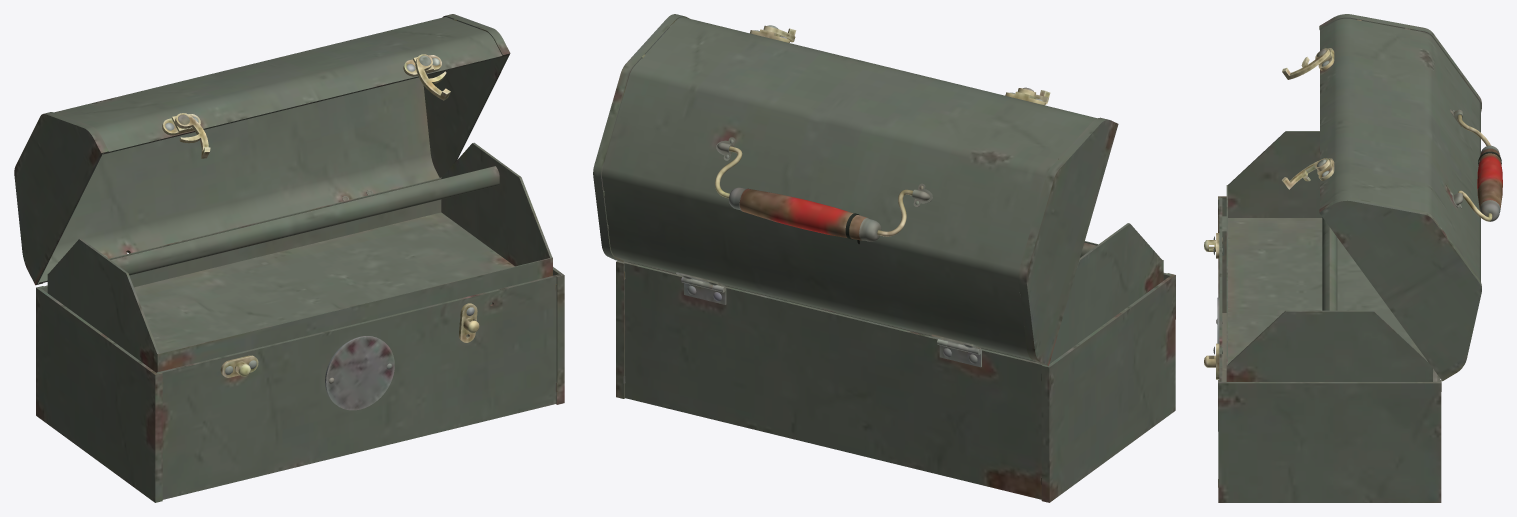
The model's file is metal_toolbox.glb.
3 renders of one model, left to right at view 1: azimuth 30°, elevation 25°; view 2: azimuth 150°, elevation 25°; view 3: azimuth 270°, elevation 25°, orthographic. The views are drawn at different scales.
Visible parts, largest first — view 1: metal_toolbox; view 2: metal_toolbox; view 3: metal_toolbox.
Boxes of the visible parts, x1=… form: metal_toolbox: x1=14, y1=14, x2=564, y2=502; metal_toolbox: x1=593, y1=14, x2=1175, y2=502; metal_toolbox: x1=1204, y1=14, x2=1502, y2=502.
Bounding box in the file's own units: 0.4 × 0.3047 × 0.2705.
1 material, 1 textured.
